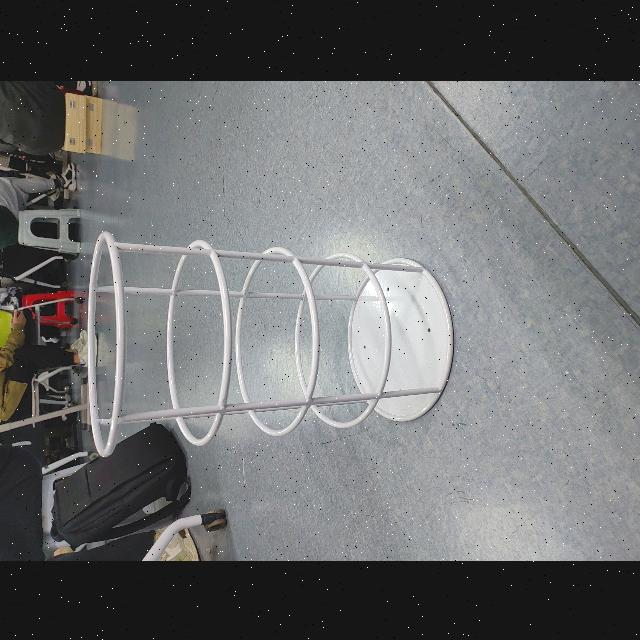S: (84, 227, 453, 459)
